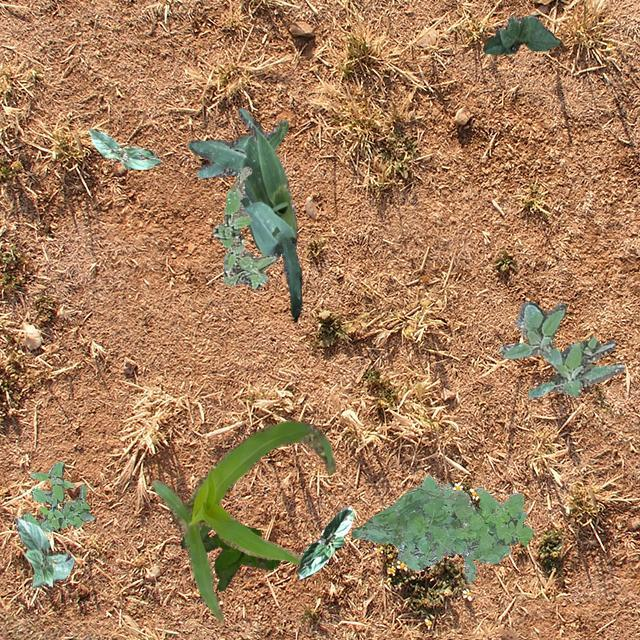crop: (150, 420, 334, 620), (186, 107, 302, 320), (296, 504, 352, 578), (13, 516, 72, 586), (482, 14, 560, 54), (88, 128, 160, 168)
weed: (351, 474, 534, 582), (498, 302, 624, 398), (212, 165, 274, 288), (178, 522, 280, 590), (21, 461, 92, 532)
